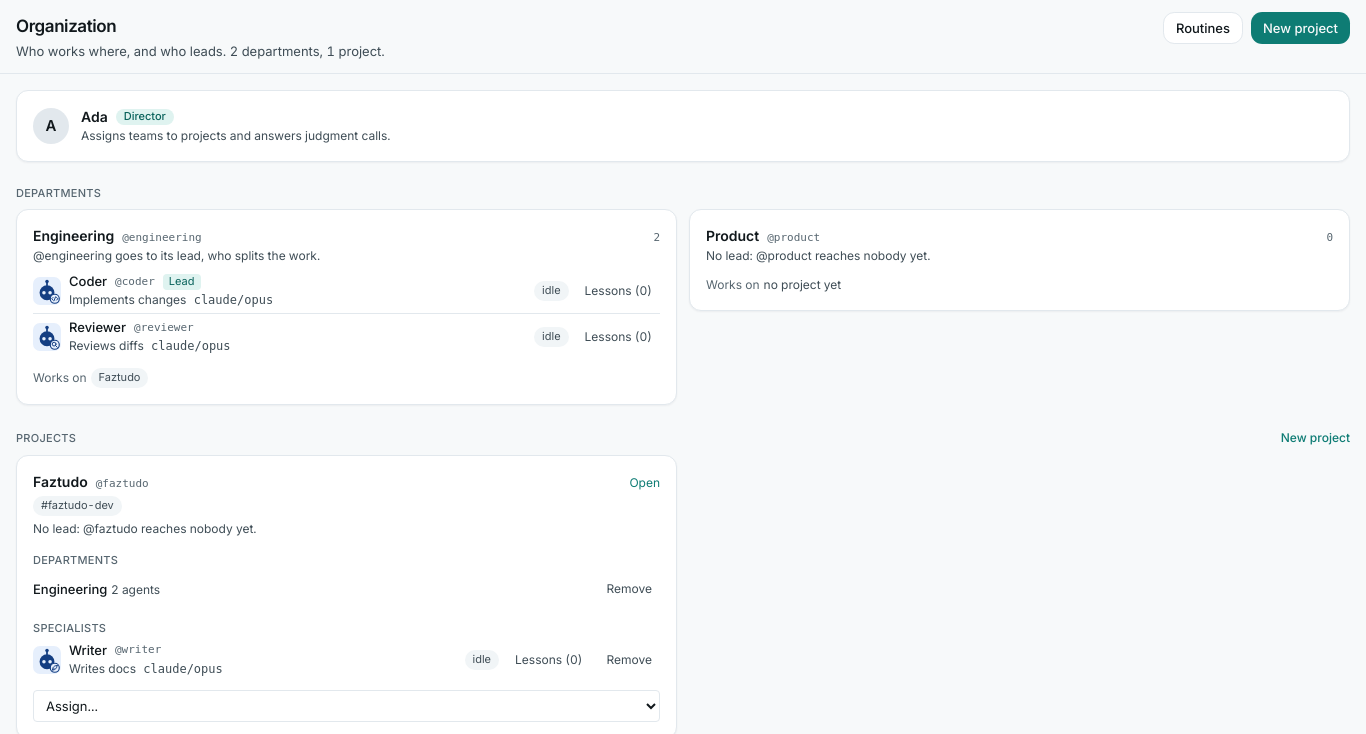
Test: OrganizationPage › shows the server's message when a change fails
Select "Product" in the dropdown named "Assign to Faztudo" at (346, 706), box top-left (33, 690), bottom-right (660, 722)
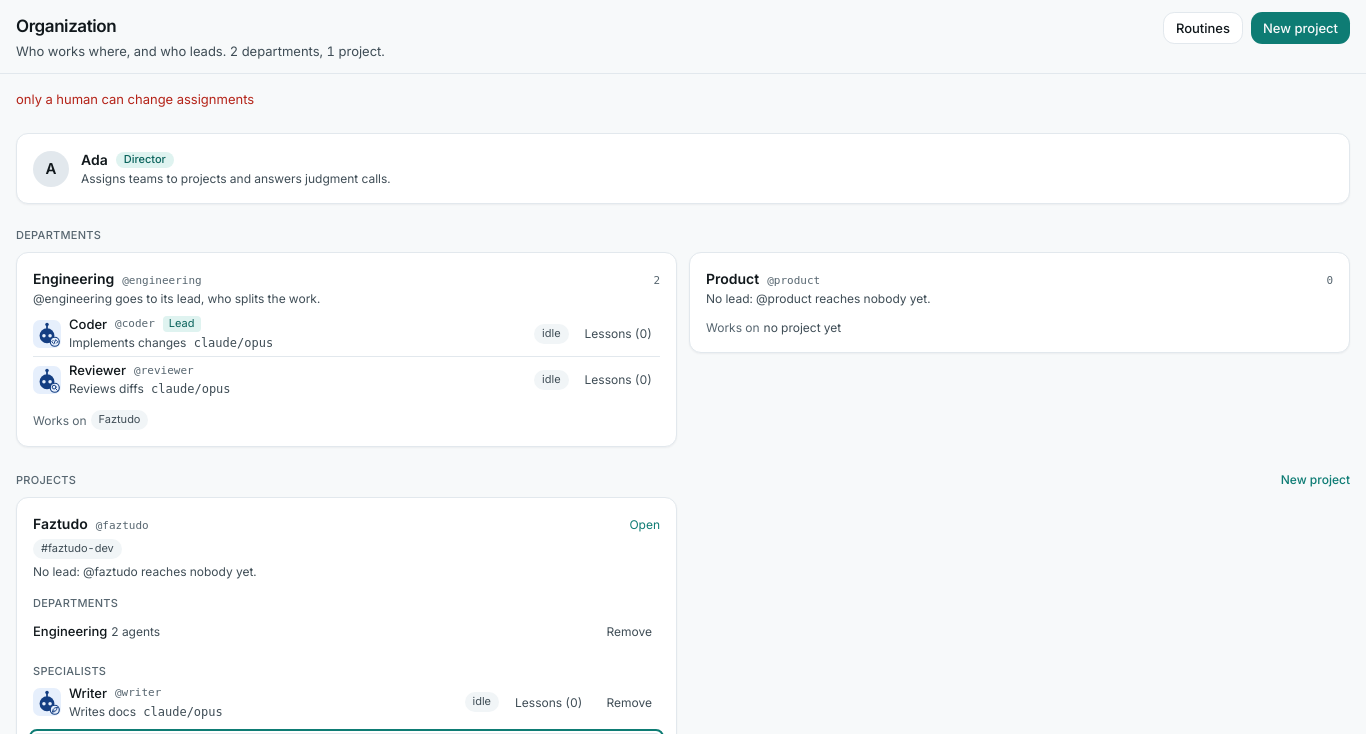
Expected: the message reads "only a human can change assignments", top-left (16, 91), bottom-right (254, 107)
